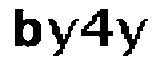4: (79, 4, 115, 52)
b: (11, 5, 45, 49)
y: (115, 16, 149, 60), (45, 15, 79, 58)
